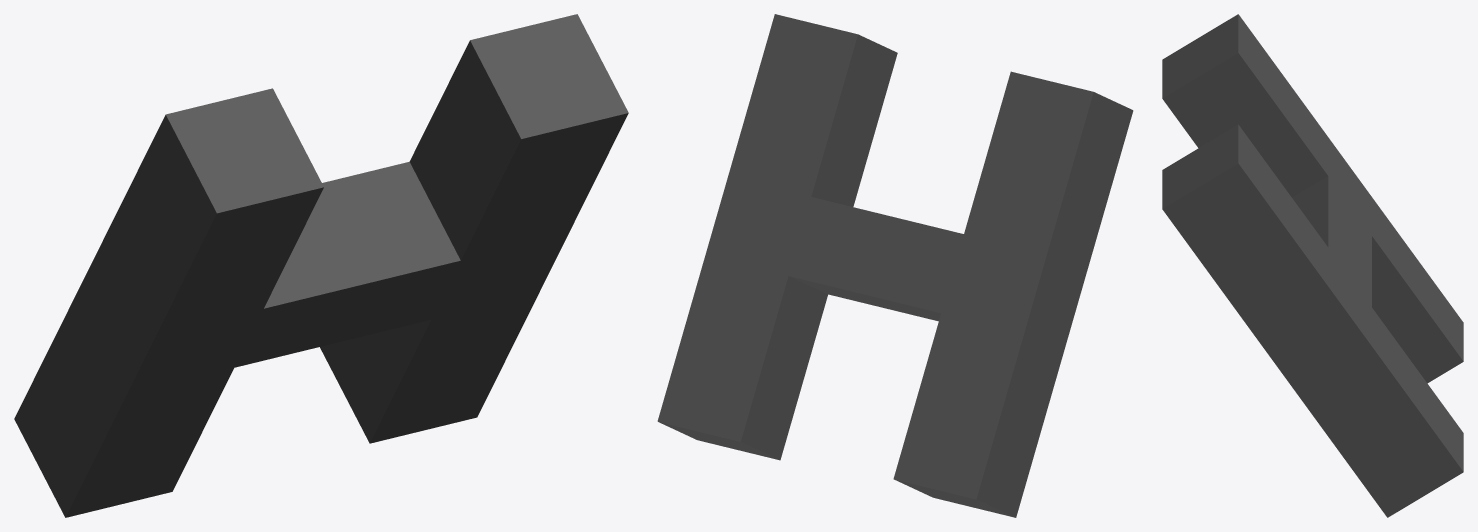
Rendered from baseH.glb.
3 renders of one model, left to right at view 1: azimuth 30°, elevation 25°; view 2: azimuth 150°, elevation 25°; view 3: azimuth 270°, elevation 25°, orthographic. The views are drawn at different scales.
Parts seen in each view (by area): view 1: mesh_id32; view 2: mesh_id32; view 3: mesh_id32.
Part boxes in pixels (<box>): mesh_id32: <box>14,14,628,517</box>; mesh_id32: <box>657,14,1133,517</box>; mesh_id32: <box>1162,14,1463,517</box>.
Size of the model in its own units: 0.058 by 0.0642 by 0.0495.
Materials: 1 (1 with a texture image).
